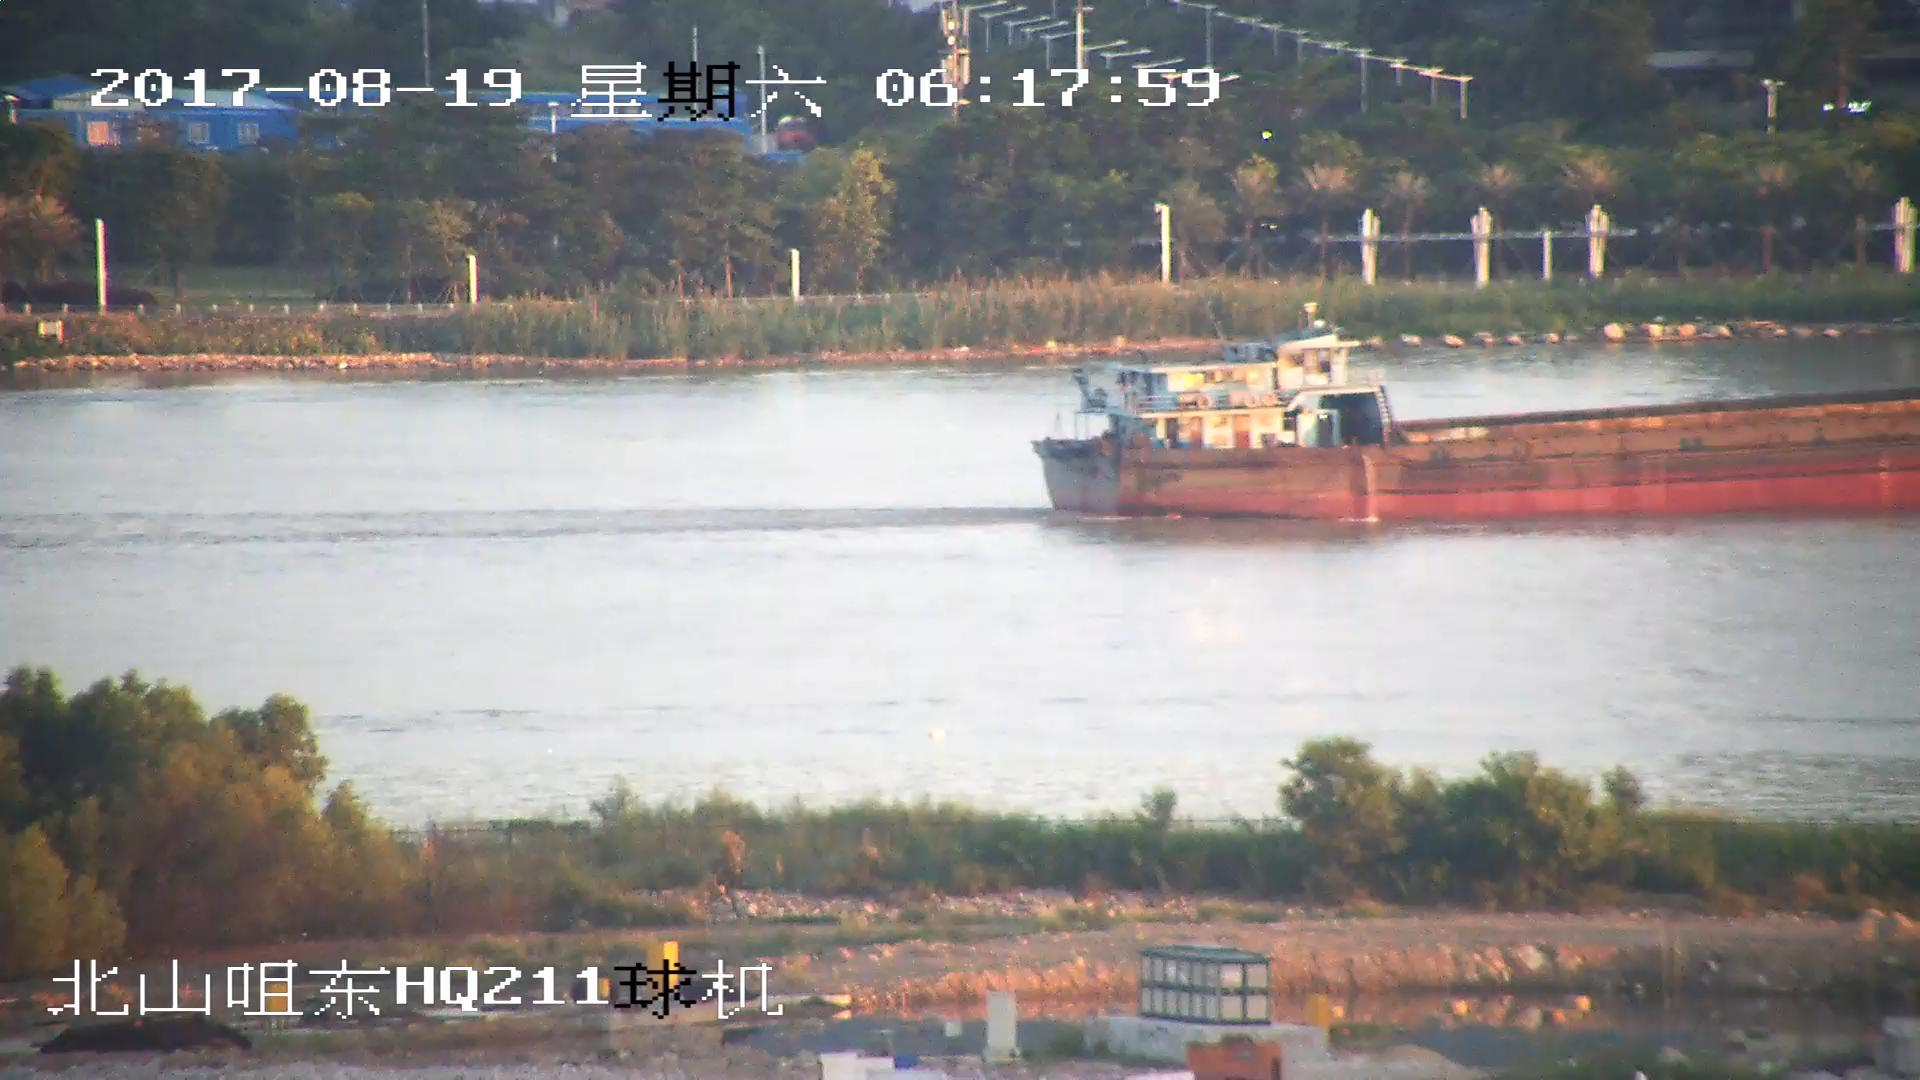Ship: (1029, 345, 1920, 525)
